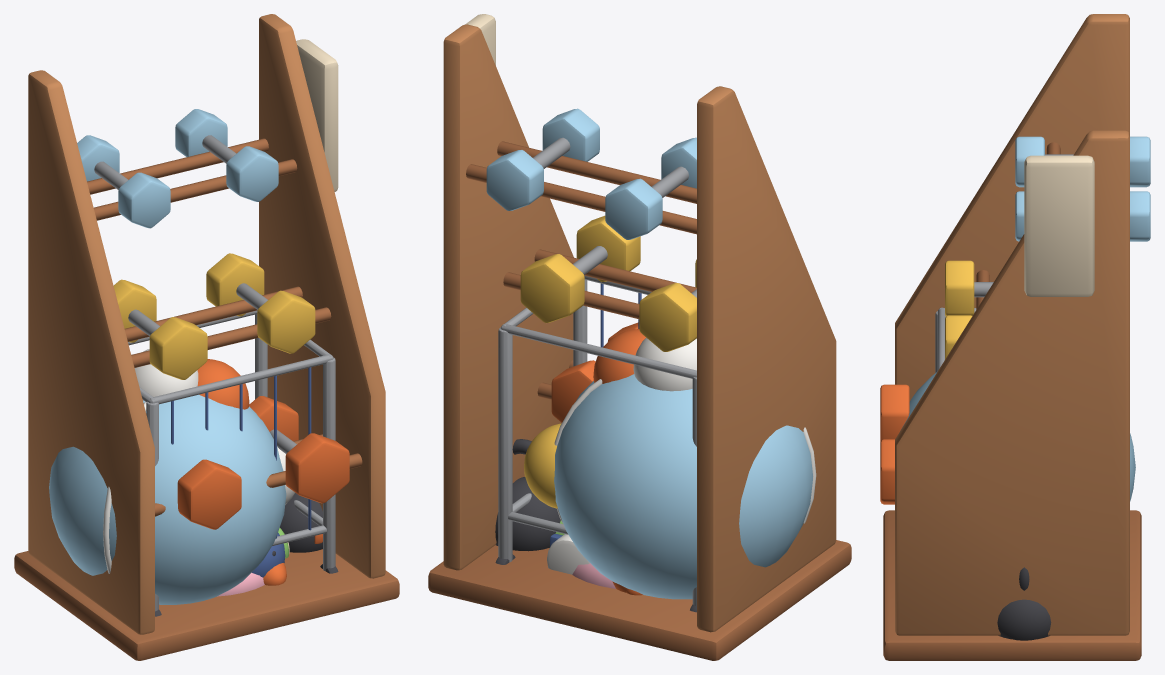
Rendered from interest_sports_v3_8.glb.
The picture shows the model from 3 angles, left to right: view 1: azimuth 30°, elevation 25°; view 2: azimuth 150°, elevation 25°; view 3: azimuth 270°, elevation 25°; orthographic projection. The views are drawn at different scales.
Visible parts, largest first — view 1: dumbbell_tower_side_L, dumbbell_tower_side_R, gym_ball_ball, dumbbell_tower_base, ball_basket, dumbbell_0_1_head_-1, dumbbell_0_0_head_-1, dumbbell_tower_towel, dumbbell_1_1_head_-1, dumbbell_1_0_head_-1, dumbbell_2_0_head_-1, dumbbell_2_1_head_-1 (+12 smaller); view 2: dumbbell_tower_side_L, dumbbell_tower_side_R, gym_ball_ball, dumbbell_tower_base, ball_basket, dumbbell_1_1_head_1, dumbbell_1_0_head_1, dumbbell_2_0_head_1, dumbbell_2_1_head_1, dumbbell_tower_rail_2_f, dumbbell_1_1_head_-1, dumbbell_2_1_head_-1 (+10 smaller); view 3: dumbbell_tower_side_R, dumbbell_tower_side_L, dumbbell_tower_towel, dumbbell_tower_base, kettlebell_body, dumbbell_1_0_head_-1, dumbbell_0_0_head_-1, dumbbell_2_0_head_1, dumbbell_2_1_head_1, dumbbell_0_1_head_-1, dumbbell_2_0_head_-1, dumbbell_1_1_head_-1 (+3 smaller).
Part boxes in pixels (x1=…): dumbbell_tower_side_L: x1=28, y1=70, x2=154, y2=634; dumbbell_tower_side_R: x1=259, y1=14, x2=385, y2=578; gym_ball_ball: x1=49, y1=394, x2=286, y2=604; dumbbell_tower_base: x1=14, y1=549, x2=399, y2=660; ball_basket: x1=134, y1=314, x2=338, y2=616; dumbbell_0_1_head_-1: x1=285, y1=433, x2=349, y2=503; dumbbell_0_0_head_-1: x1=177, y1=459, x2=241, y2=529; dumbbell_tower_towel: x1=296, y1=39, x2=338, y2=191; dumbbell_1_1_head_-1: x1=257, y1=290, x2=315, y2=353; dumbbell_1_0_head_-1: x1=149, y1=317, x2=207, y2=379; dumbbell_2_0_head_-1: x1=118, y1=172, x2=170, y2=228; dumbbell_2_1_head_-1: x1=226, y1=146, x2=278, y2=201; dumbbell_tower_side_L: x1=697, y1=86, x2=836, y2=632; dumbbell_tower_side_R: x1=443, y1=24, x2=573, y2=570; gym_ball_ball: x1=554, y1=374, x2=812, y2=599; dumbbell_tower_base: x1=428, y1=540, x2=851, y2=660; ball_basket: x1=495, y1=279, x2=696, y2=612; dumbbell_1_1_head_1: x1=520, y1=254, x2=584, y2=322; dumbbell_1_0_head_1: x1=639, y1=283, x2=696, y2=351; dumbbell_2_0_head_1: x1=605, y1=178, x2=662, y2=239; dumbbell_2_1_head_1: x1=486, y1=150, x2=543, y2=210; dumbbell_tower_rail_2_f: x1=497, y1=141, x2=696, y2=203; dumbbell_1_1_head_-1: x1=576, y1=215, x2=640, y2=281; dumbbell_2_1_head_-1: x1=542, y1=108, x2=599, y2=161; dumbbell_tower_side_R: x1=895, y1=130, x2=1129, y2=635; dumbbell_tower_side_L: x1=895, y1=14, x2=1129, y2=401; dumbbell_tower_towel: x1=1024, y1=155, x2=1094, y2=296; dumbbell_tower_base: x1=883, y1=510, x2=1141, y2=660; kettlebell_body: x1=997, y1=599, x2=1051, y2=640; dumbbell_1_0_head_-1: x1=945, y1=260, x2=974, y2=316; dumbbell_0_0_head_-1: x1=880, y1=384, x2=909, y2=442; dumbbell_2_0_head_1: x1=1130, y1=136, x2=1150, y2=187; dumbbell_2_1_head_1: x1=1130, y1=191, x2=1150, y2=241; dumbbell_0_1_head_-1: x1=880, y1=439, x2=894, y2=504; dumbbell_2_0_head_-1: x1=1015, y1=136, x2=1044, y2=187; dumbbell_1_1_head_-1: x1=945, y1=315, x2=972, y2=359.
Bounding box in the file's own units: 0.575 × 0.992 × 0.46.
